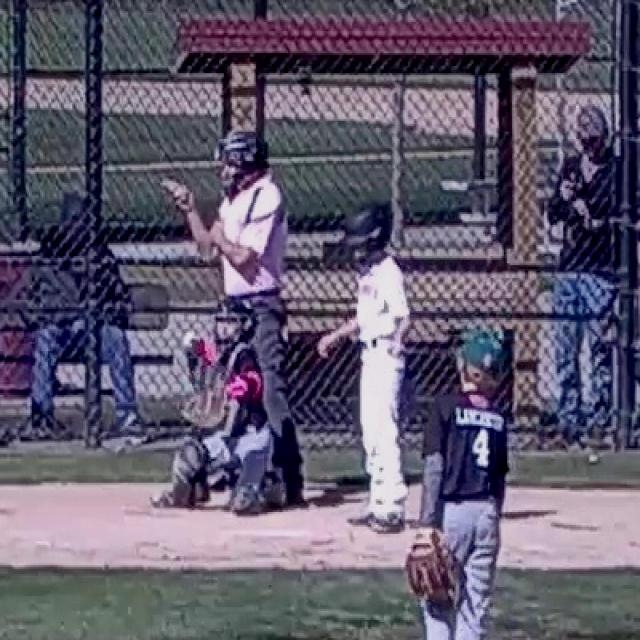baseball: (184, 332, 191, 346)
